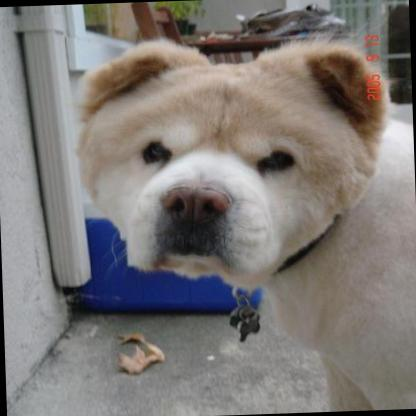chow: (67, 27, 416, 416)
